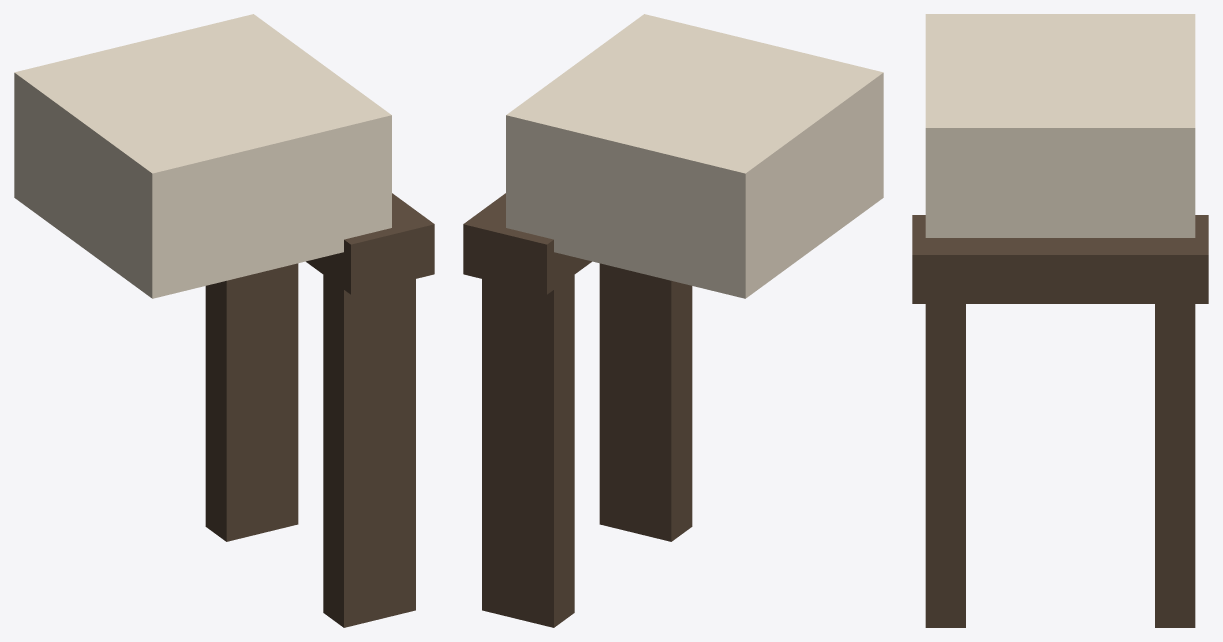
The model's file is Stucco_Doorway_Narrow_Tall.obj.
3 views of the same model, side by side, from view 1: azimuth 30°, elevation 25°; view 2: azimuth 150°, elevation 25°; view 3: azimuth 270°, elevation 25° (orthographic). The views are drawn at different scales.
Parts seen in each view (by area): view 1: object1, object2; view 2: object1, object2; view 3: object1, object2.
Part boxes in pixels (<box>): object1: <box>14,14,391,298</box>; object2: <box>205,193,434,627</box>; object1: <box>506,14,883,298</box>; object2: <box>463,193,692,627</box>; object1: <box>925,14,1195,237</box>; object2: <box>912,215,1208,627</box>.
Size of the model in its own units: 1.15 by 2 by 1.1.
